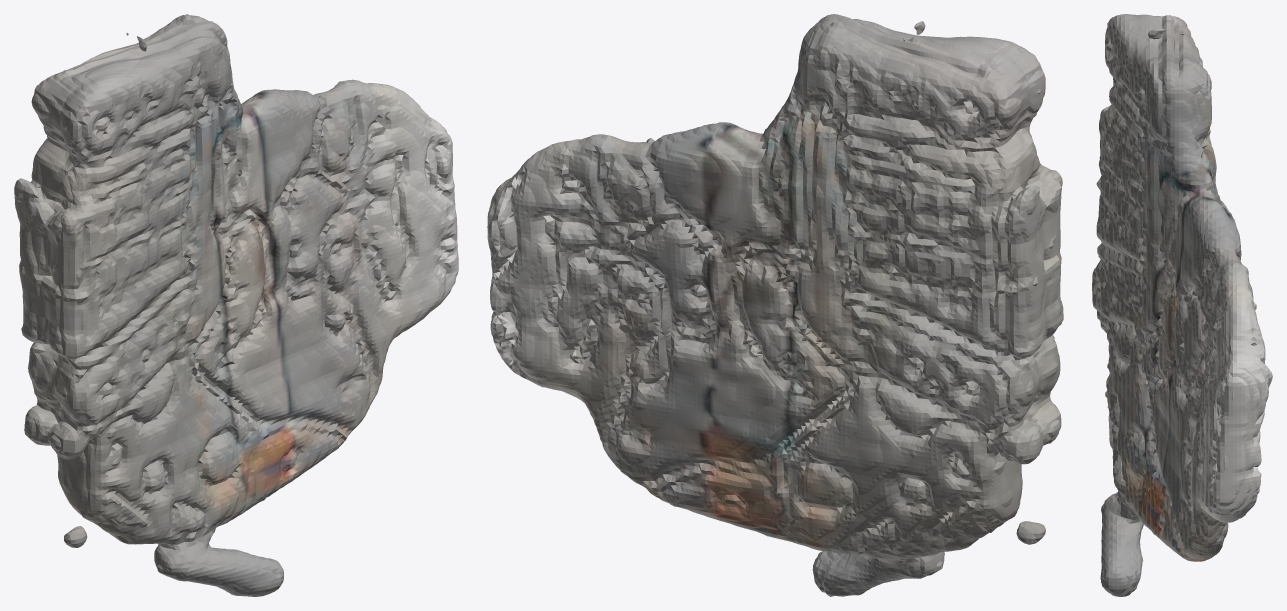
File: gen_8d61e41d.glb
3 views of the same model, side by side, from view 1: azimuth 30°, elevation 25°; view 2: azimuth 150°, elevation 25°; view 3: azimuth 270°, elevation 25° (orthographic). The views are drawn at different scales.
Visible parts, largest first — view 1: world; view 2: world; view 3: world.
Part boxes in pixels (left/top/right/bottom): world: left=14, top=14, right=458, bottom=596; world: left=487, top=14, right=1063, bottom=596; world: left=1092, top=14, right=1272, bottom=596.
Bounding box in the file's own units: 0.8176 × 0.9491 × 0.2978.
